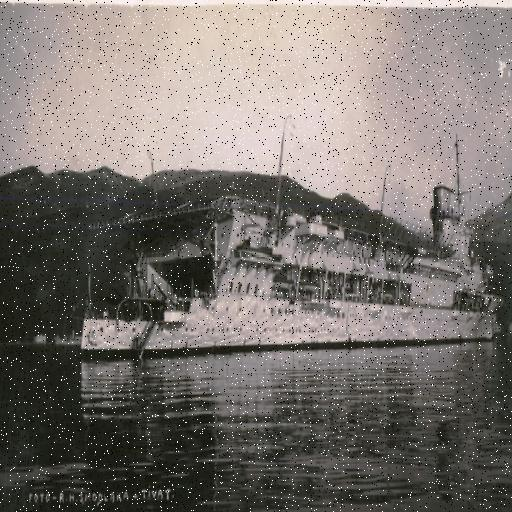Portanaves: (70, 101, 507, 367)
